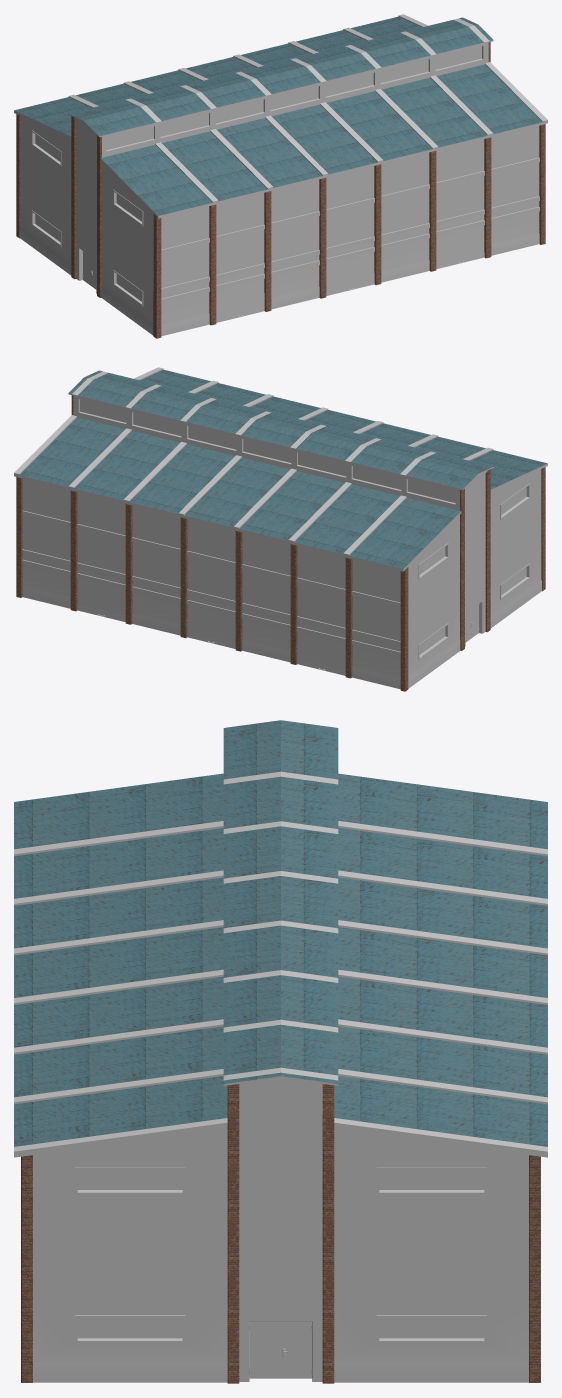
File: WareHouse01.fbx
3 views of the same model, one above another, from view 1: azimuth 30°, elevation 25°; view 2: azimuth 150°, elevation 25°; view 3: azimuth 270°, elevation 25° (orthographic). The views are drawn at different scales.
Parts seen in each view (by area): view 1: WareHouse01_LOD0; view 2: WareHouse01_LOD0; view 3: WareHouse01_LOD0.
Boxes of the visible parts, bbox=[...] form: WareHouse01_LOD0: bbox=[14, 14, 547, 338]; WareHouse01_LOD0: bbox=[14, 367, 547, 691]; WareHouse01_LOD0: bbox=[14, 720, 547, 1383].
Size of what is drawn, in the model's own units: 56.68 by 22.97 by 35.93.
